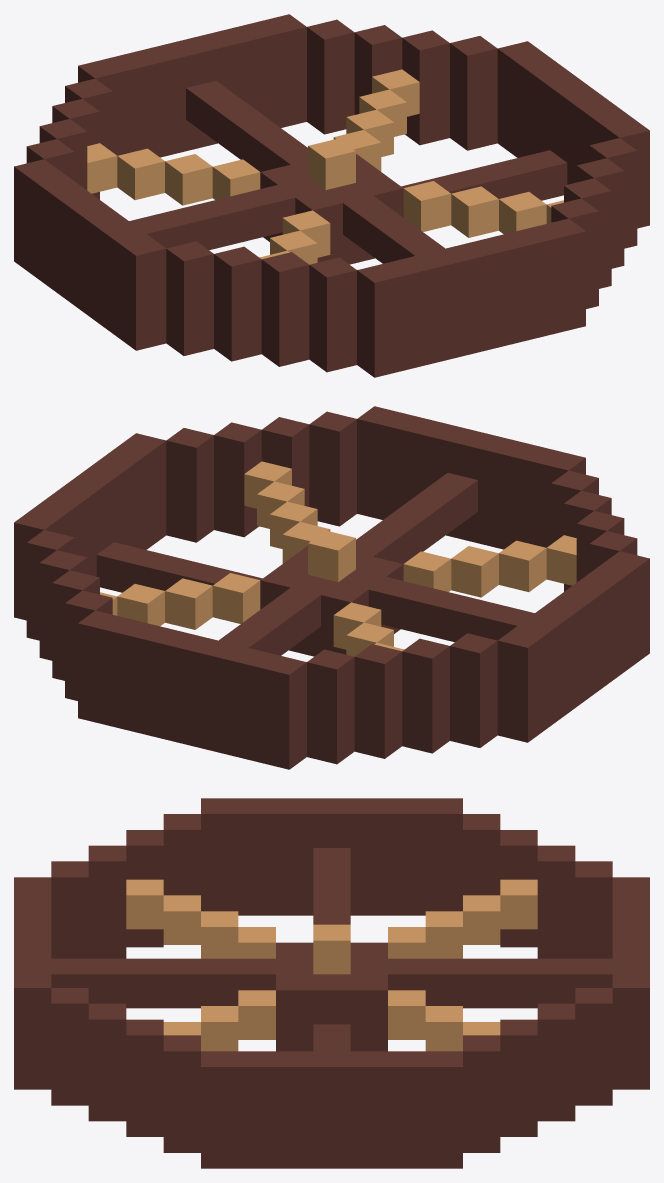
Rendered from wheel.obj.
The picture shows the model from 3 angles, top to bottom: view 1: azimuth 30°, elevation 25°; view 2: azimuth 150°, elevation 25°; view 3: azimuth 270°, elevation 25°; orthographic projection. The views are drawn at different scales.
Size of the model in its own units: 1.7 by 0.3 by 1.7.
